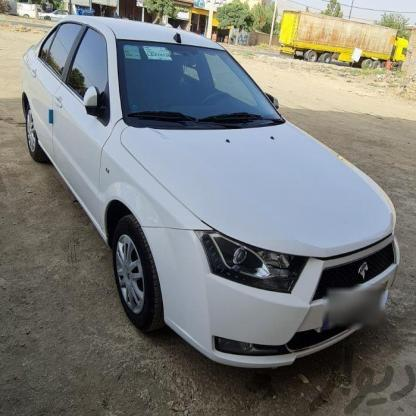Car: (20, 4, 404, 395)
Truck: (272, 11, 416, 64)
